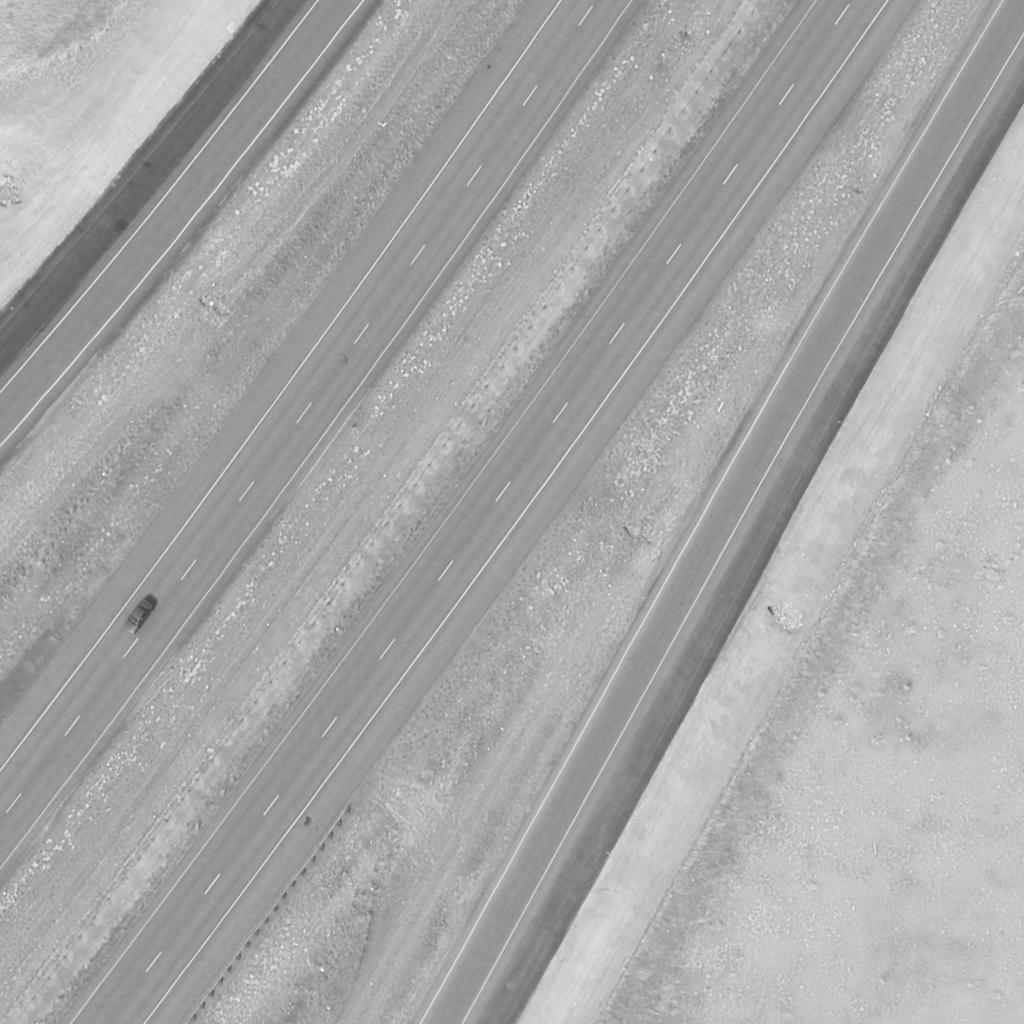vehicle: (120, 597, 156, 637)
